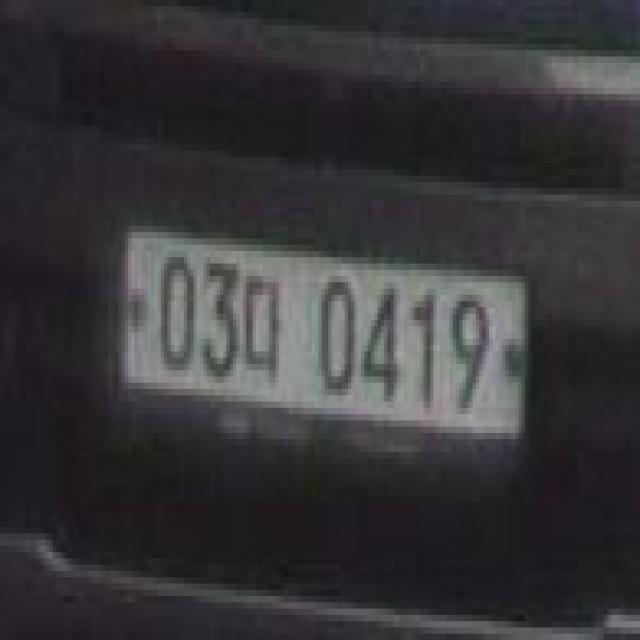illegal_plate: (113, 218, 538, 475)
